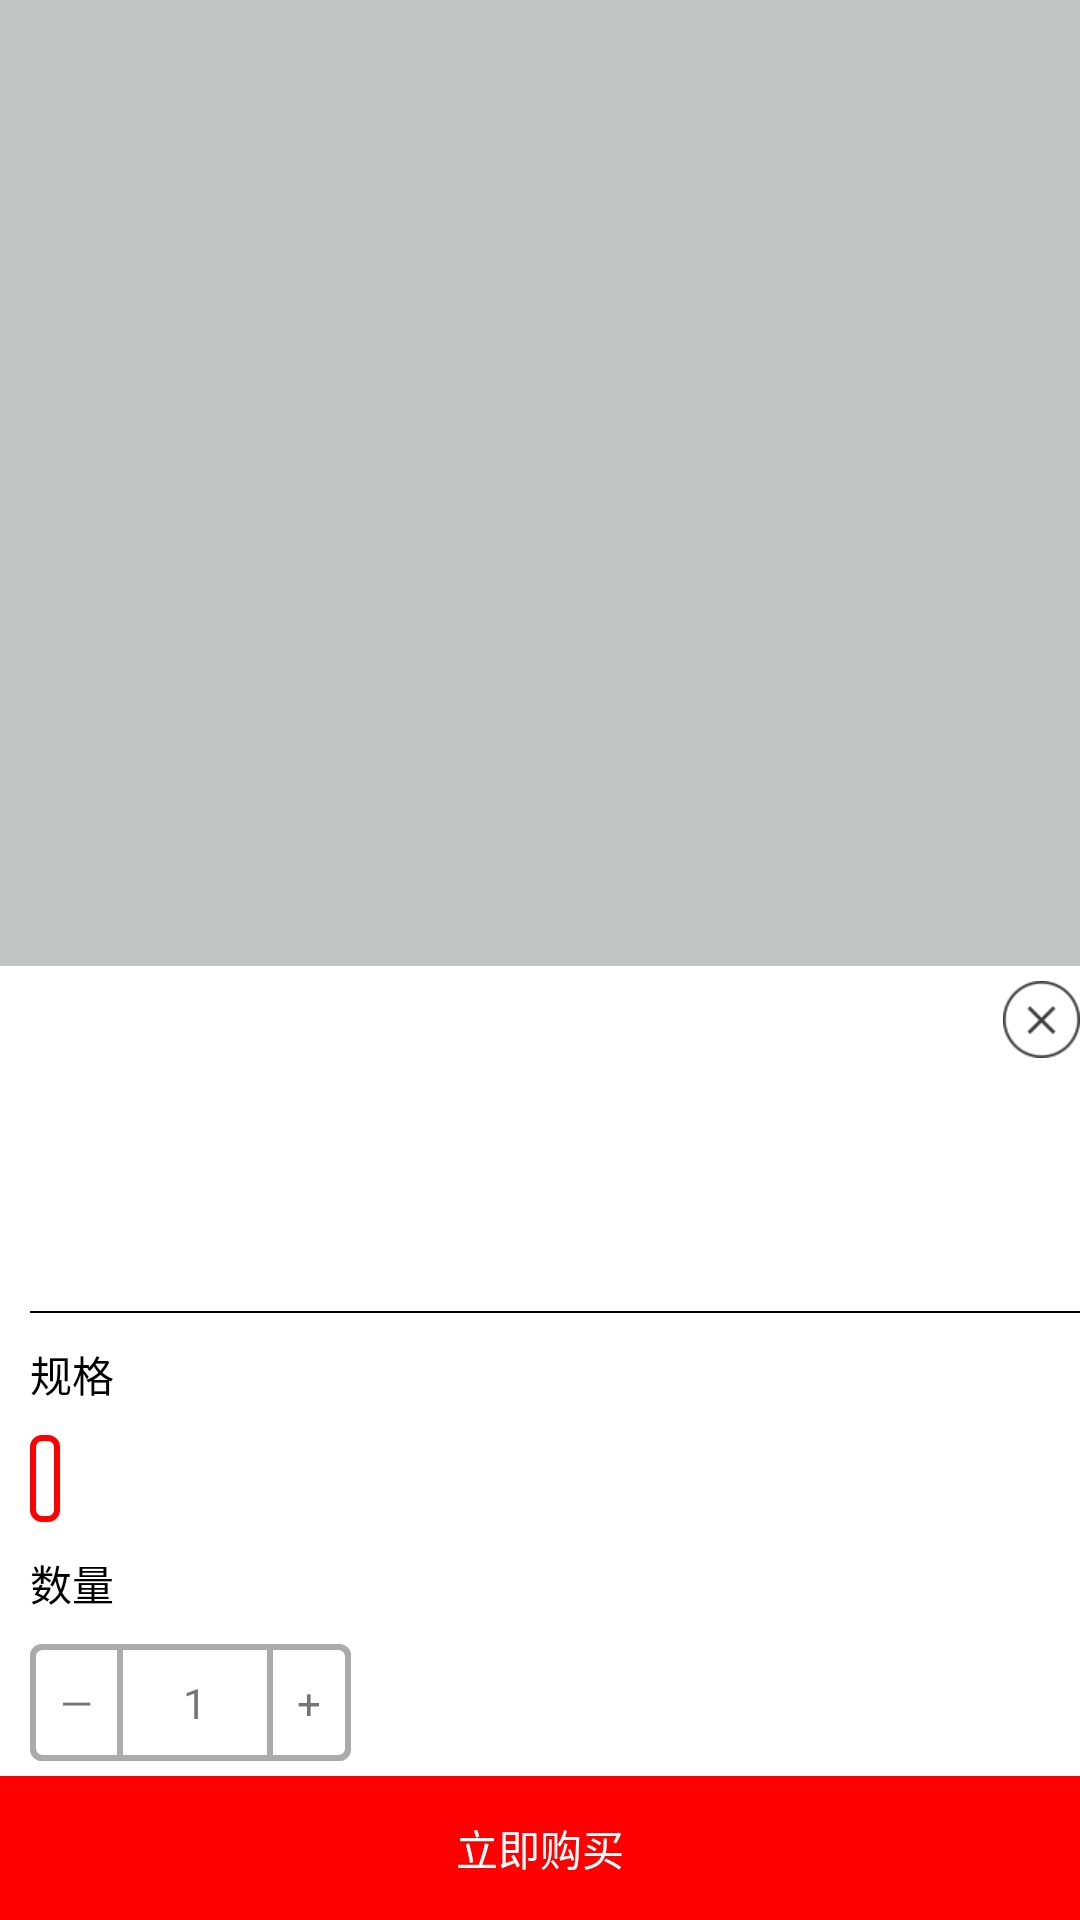

Icons on this 1080w x 1920h Android screen, each with its box as [x1, y1, x2, y2]:
dlg close: [1003, 981, 1080, 1058]
